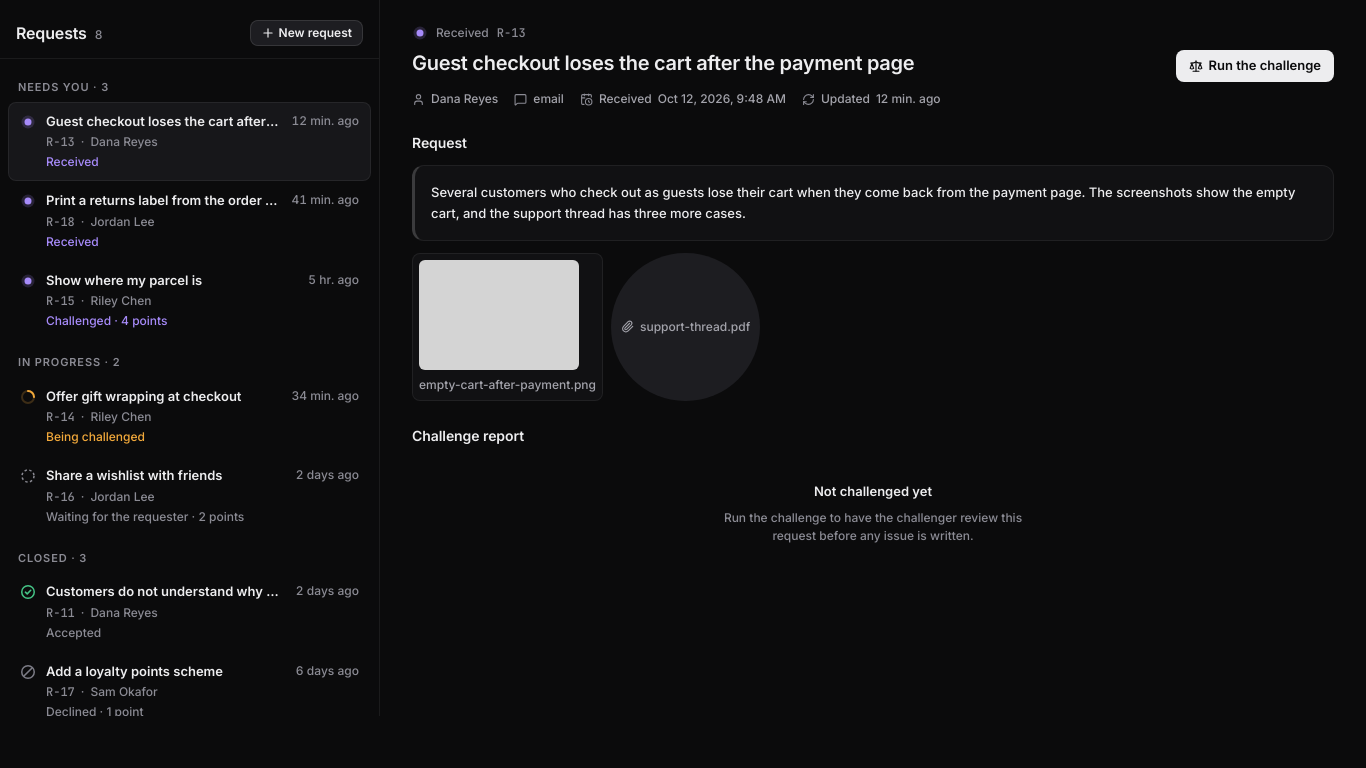
Test: request.challenge › shows what the factory did once it accepted the command
Click the button "Run the challenge" at x=1255, y=66, box 1176,50 -> 1334,82
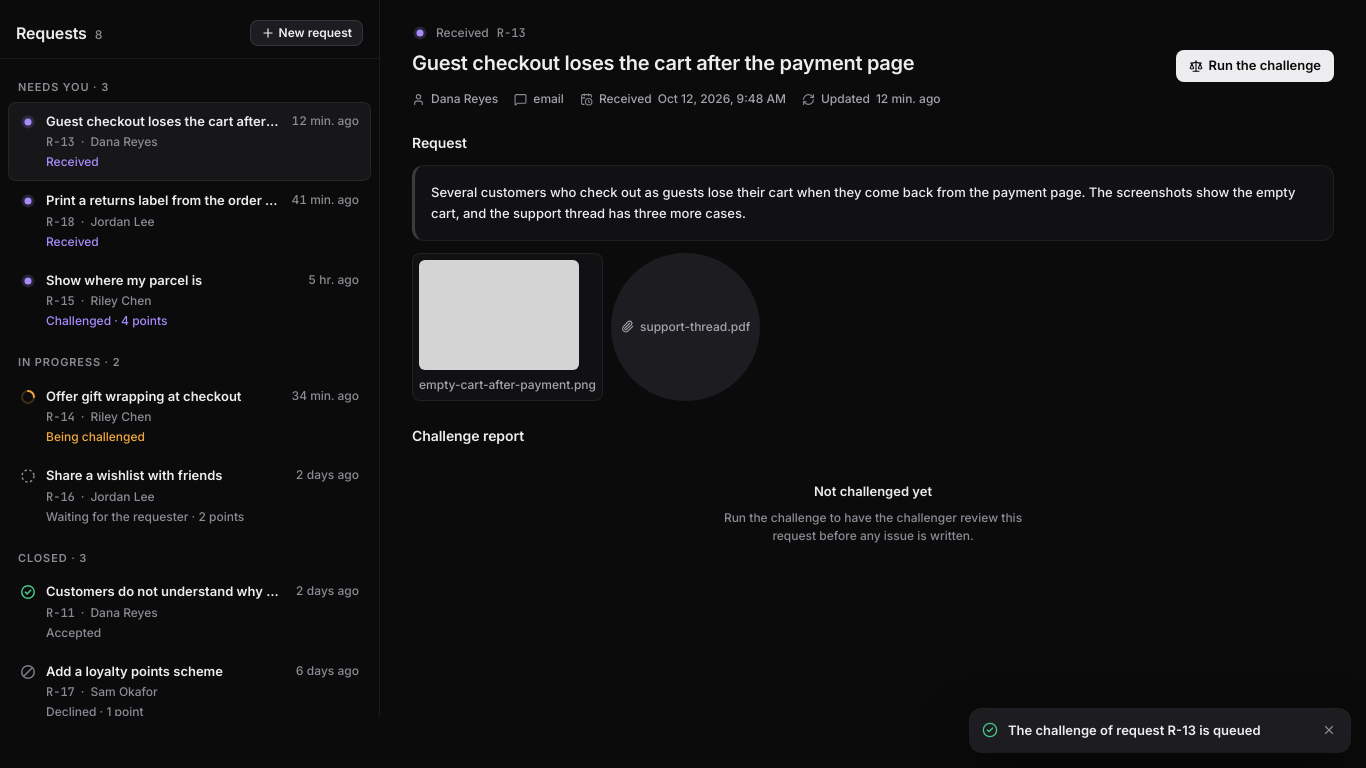
expect the text "The challenge of request R-13 is queued" is shown: met, box 1008,722 -> 1260,738
